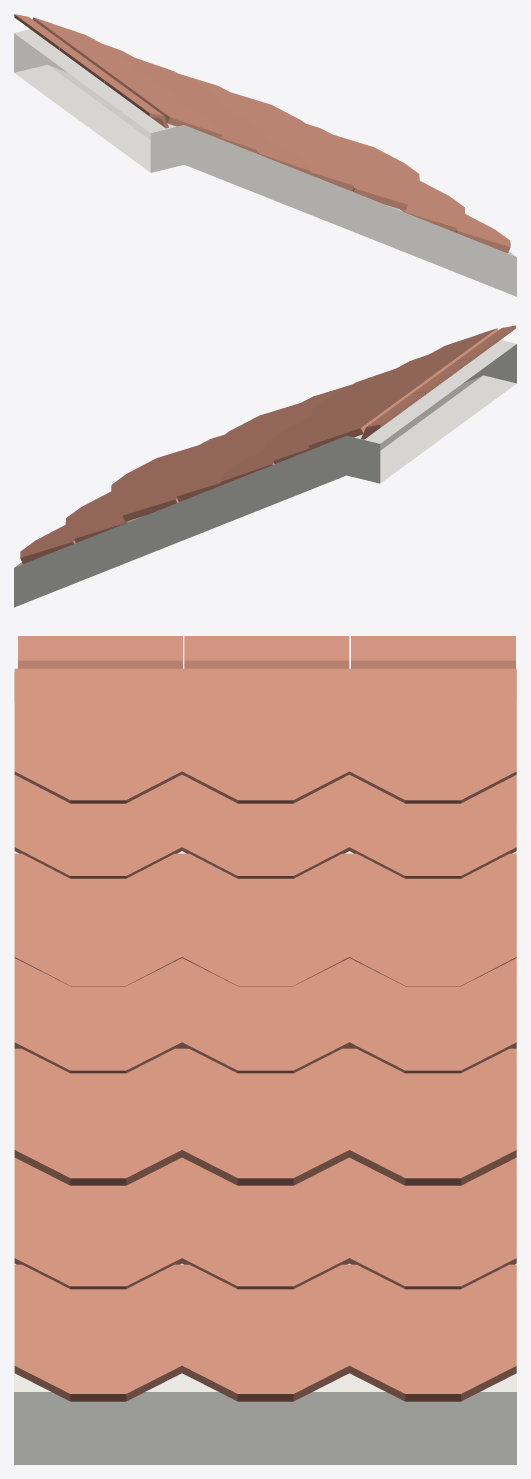
Rendered from GarageRoof01_house4.fbx.
3 views of the same model, one above another, from view 1: azimuth 30°, elevation 25°; view 2: azimuth 150°, elevation 25°; view 3: azimuth 270°, elevation 25° (orthographic). The views are drawn at different scales.
Visible parts, largest first — view 1: GarageRoof01_house4; view 2: GarageRoof01_house4; view 3: GarageRoof01_house4.
Part boxes in pixels (x1=…): GarageRoof01_house4: x1=14, y1=14, x2=516, y2=296; GarageRoof01_house4: x1=14, y1=325, x2=516, y2=607; GarageRoof01_house4: x1=14, y1=636, x2=516, y2=1464.
Size of the model in its own units: 400 by 278 by 253.
